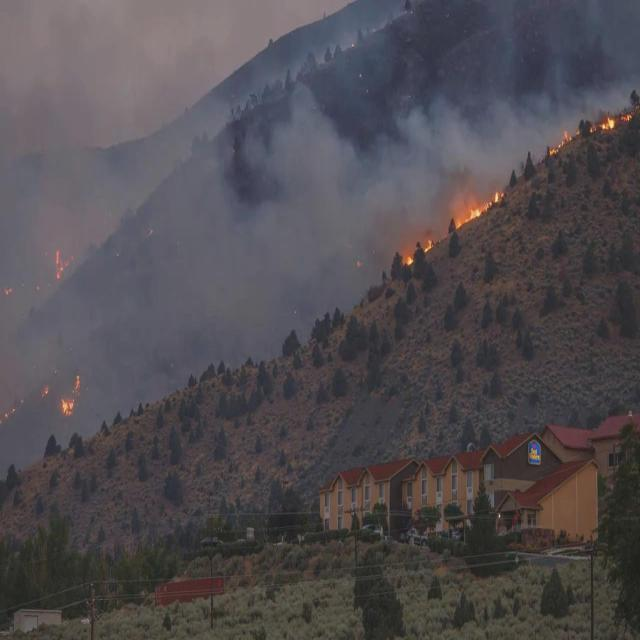smoke: (19, 18, 303, 339), (309, 125, 434, 226)
